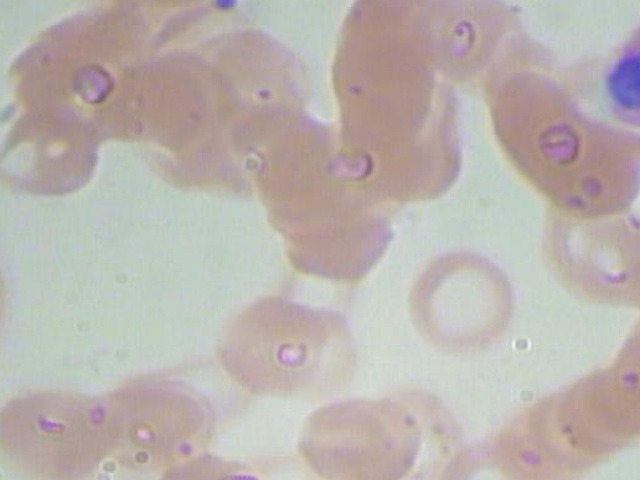Platelets: (207, 0, 247, 18)
RBC: (92, 48, 218, 169), (476, 72, 601, 193), (93, 353, 224, 468), (397, 237, 518, 357), (269, 281, 390, 401), (278, 178, 399, 298), (207, 280, 328, 399), (193, 16, 314, 135), (0, 93, 117, 214), (0, 362, 122, 477), (290, 381, 421, 480), (501, 380, 622, 476), (534, 199, 640, 294), (221, 87, 328, 181), (471, 410, 592, 480), (552, 356, 640, 452), (418, 0, 525, 78), (425, 424, 546, 480), (575, 208, 640, 303), (581, 333, 640, 429), (606, 316, 640, 412), (620, 223, 640, 318)
WBC: (601, 0, 640, 135)
